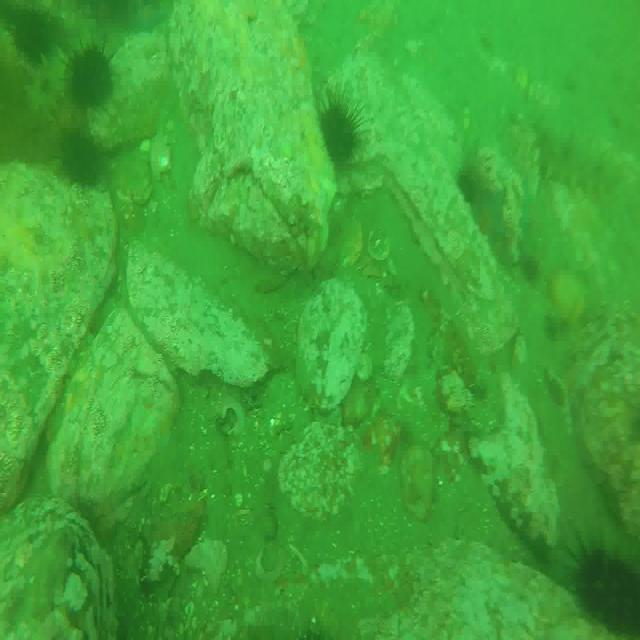echinus: (568, 538, 640, 640), (11, 0, 61, 68), (318, 94, 362, 170), (66, 46, 115, 109), (60, 127, 104, 194), (457, 168, 478, 208)
holothurian: (535, 125, 613, 194)
starfish: (466, 190, 508, 250)
